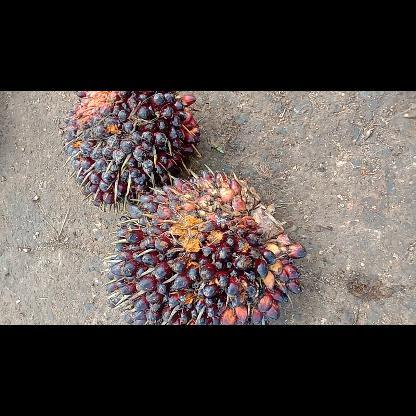Kurang masak: (99, 166, 311, 324), (60, 91, 200, 211)
